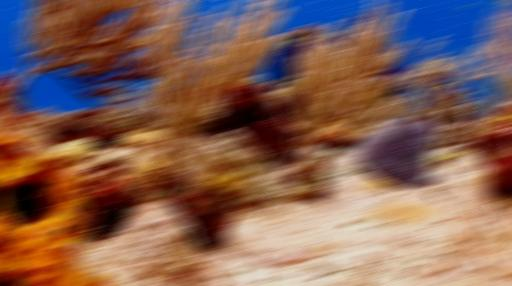Fish: (279, 78, 302, 96), (429, 153, 456, 165), (285, 37, 300, 47), (263, 79, 278, 89), (457, 3, 474, 10), (463, 90, 476, 96), (450, 152, 469, 156), (440, 84, 455, 88), (495, 0, 508, 2), (503, 116, 511, 118)
